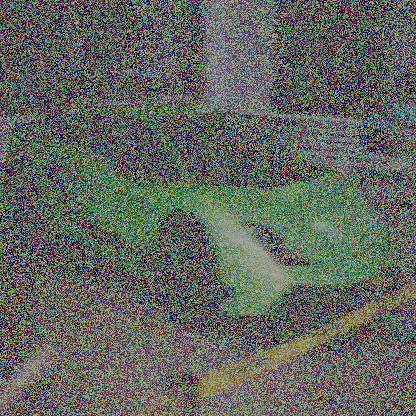Vehicle: (6, 104, 400, 338)
